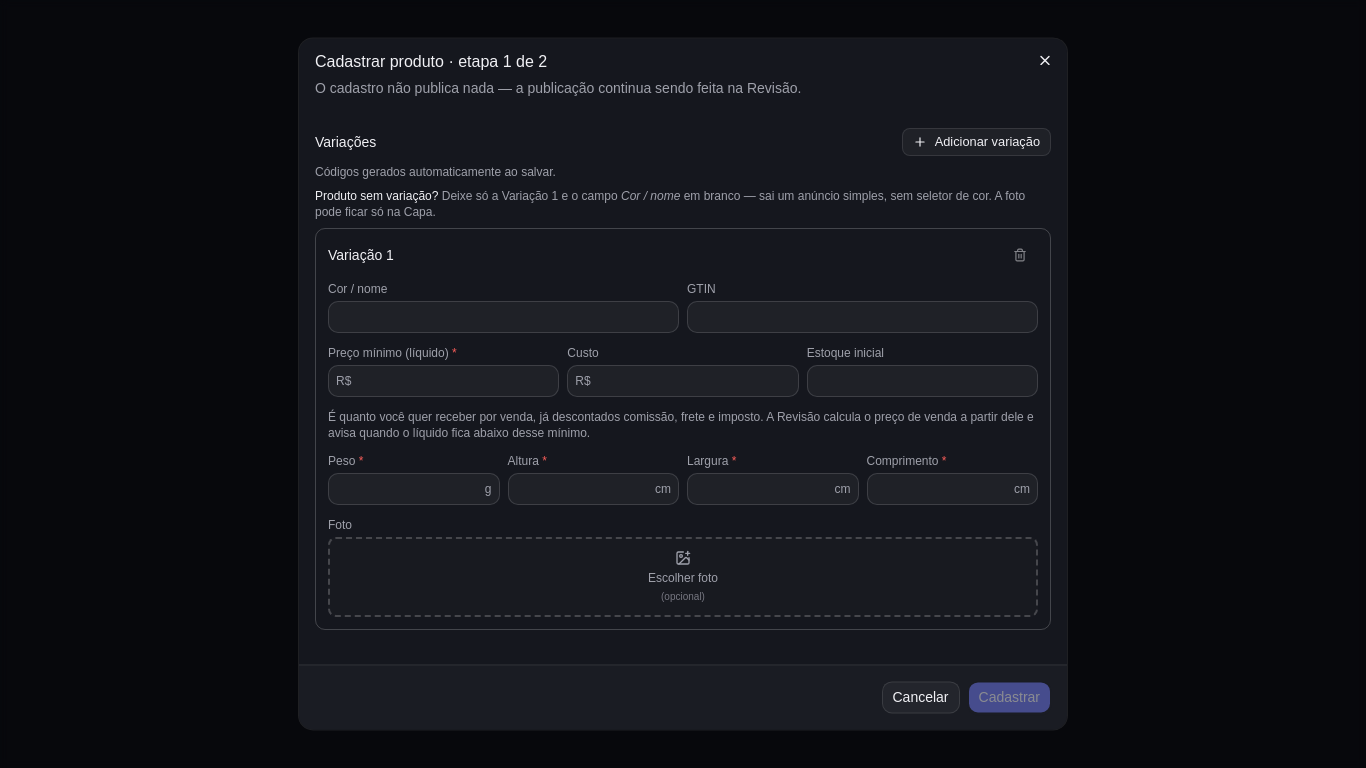
DialogCadastroProduto — formulário em cards › texto não numérico no custo é recusado em vez de virar campo vazio
The image size is (1366, 768).
(page scrolled)
Step 1. Type "abc" into the field named "Custo da variação 1" → coordinates (683, 381), box [567, 365, 799, 397]
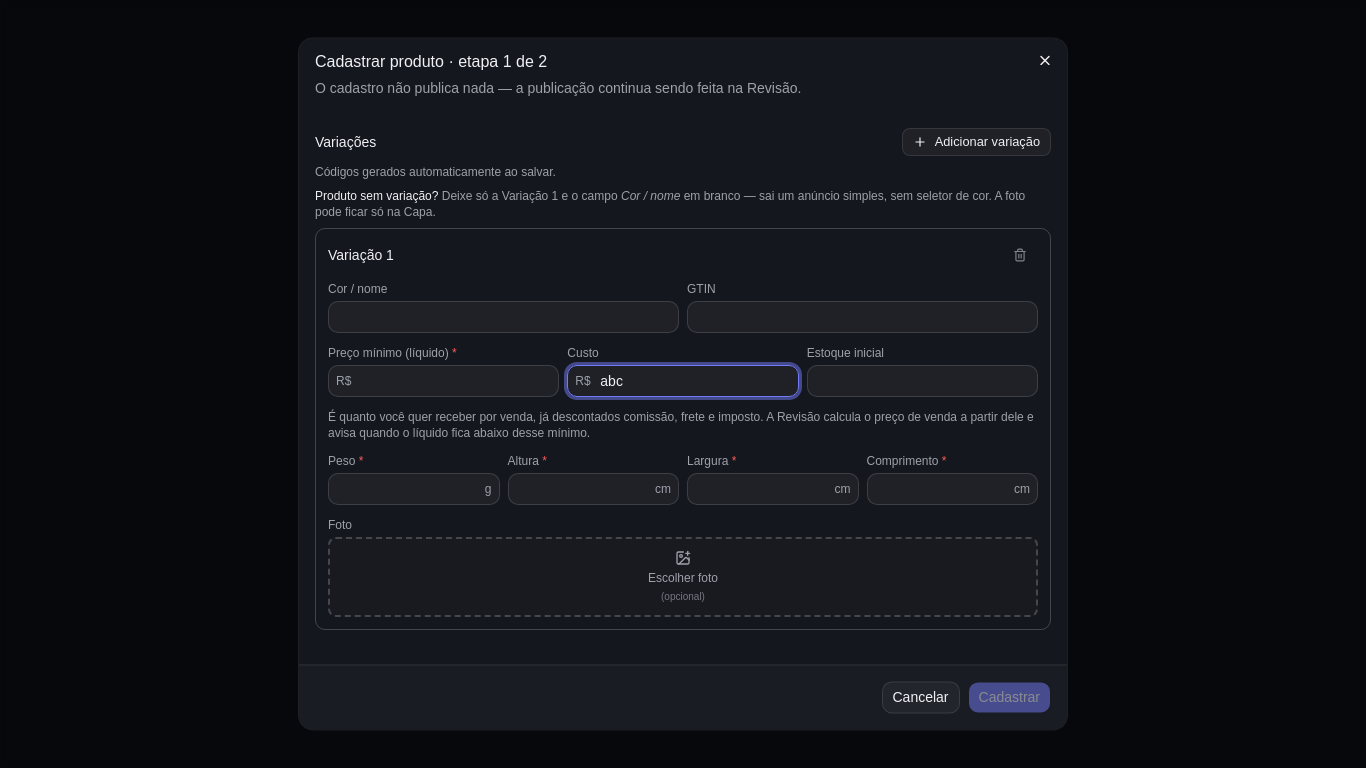
Step 2. Press Tab
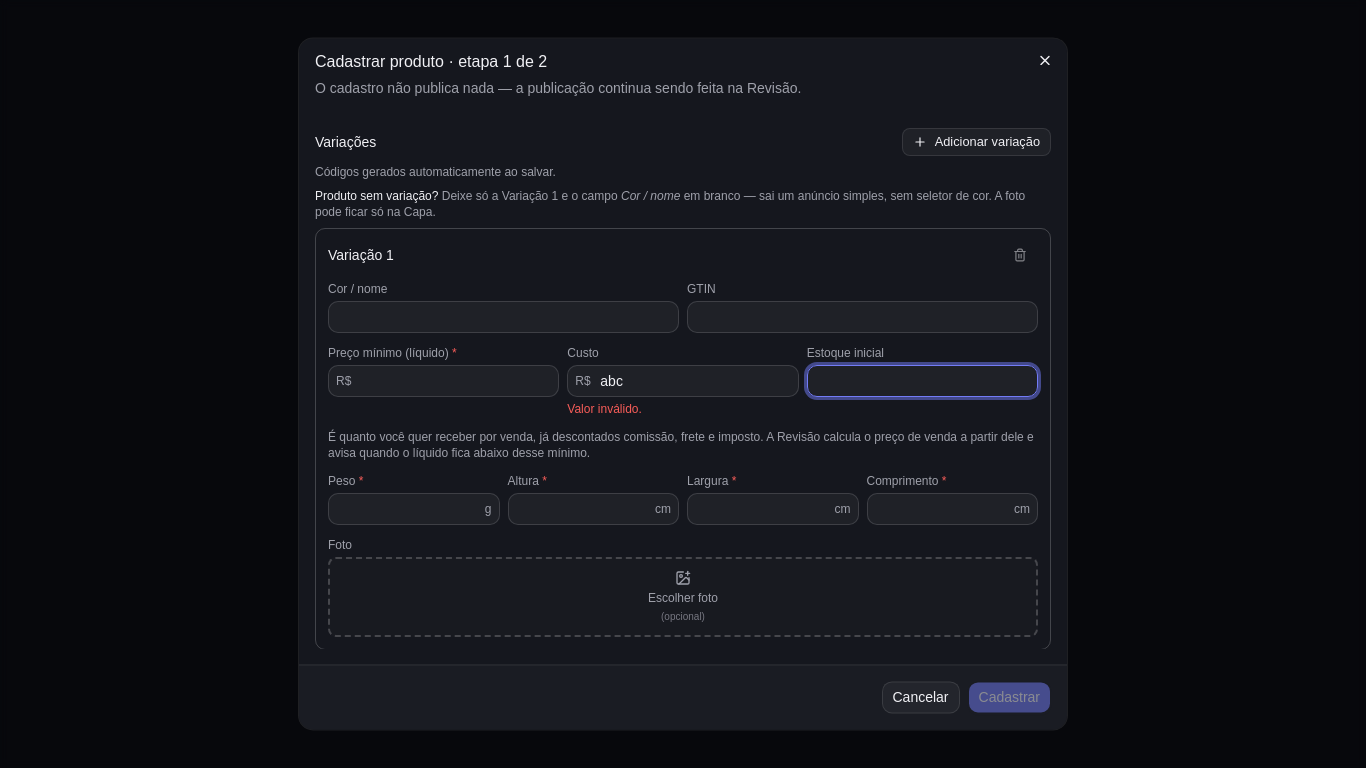
Expected: the text "Valor inválido." is shown, [567, 402, 642, 416]
